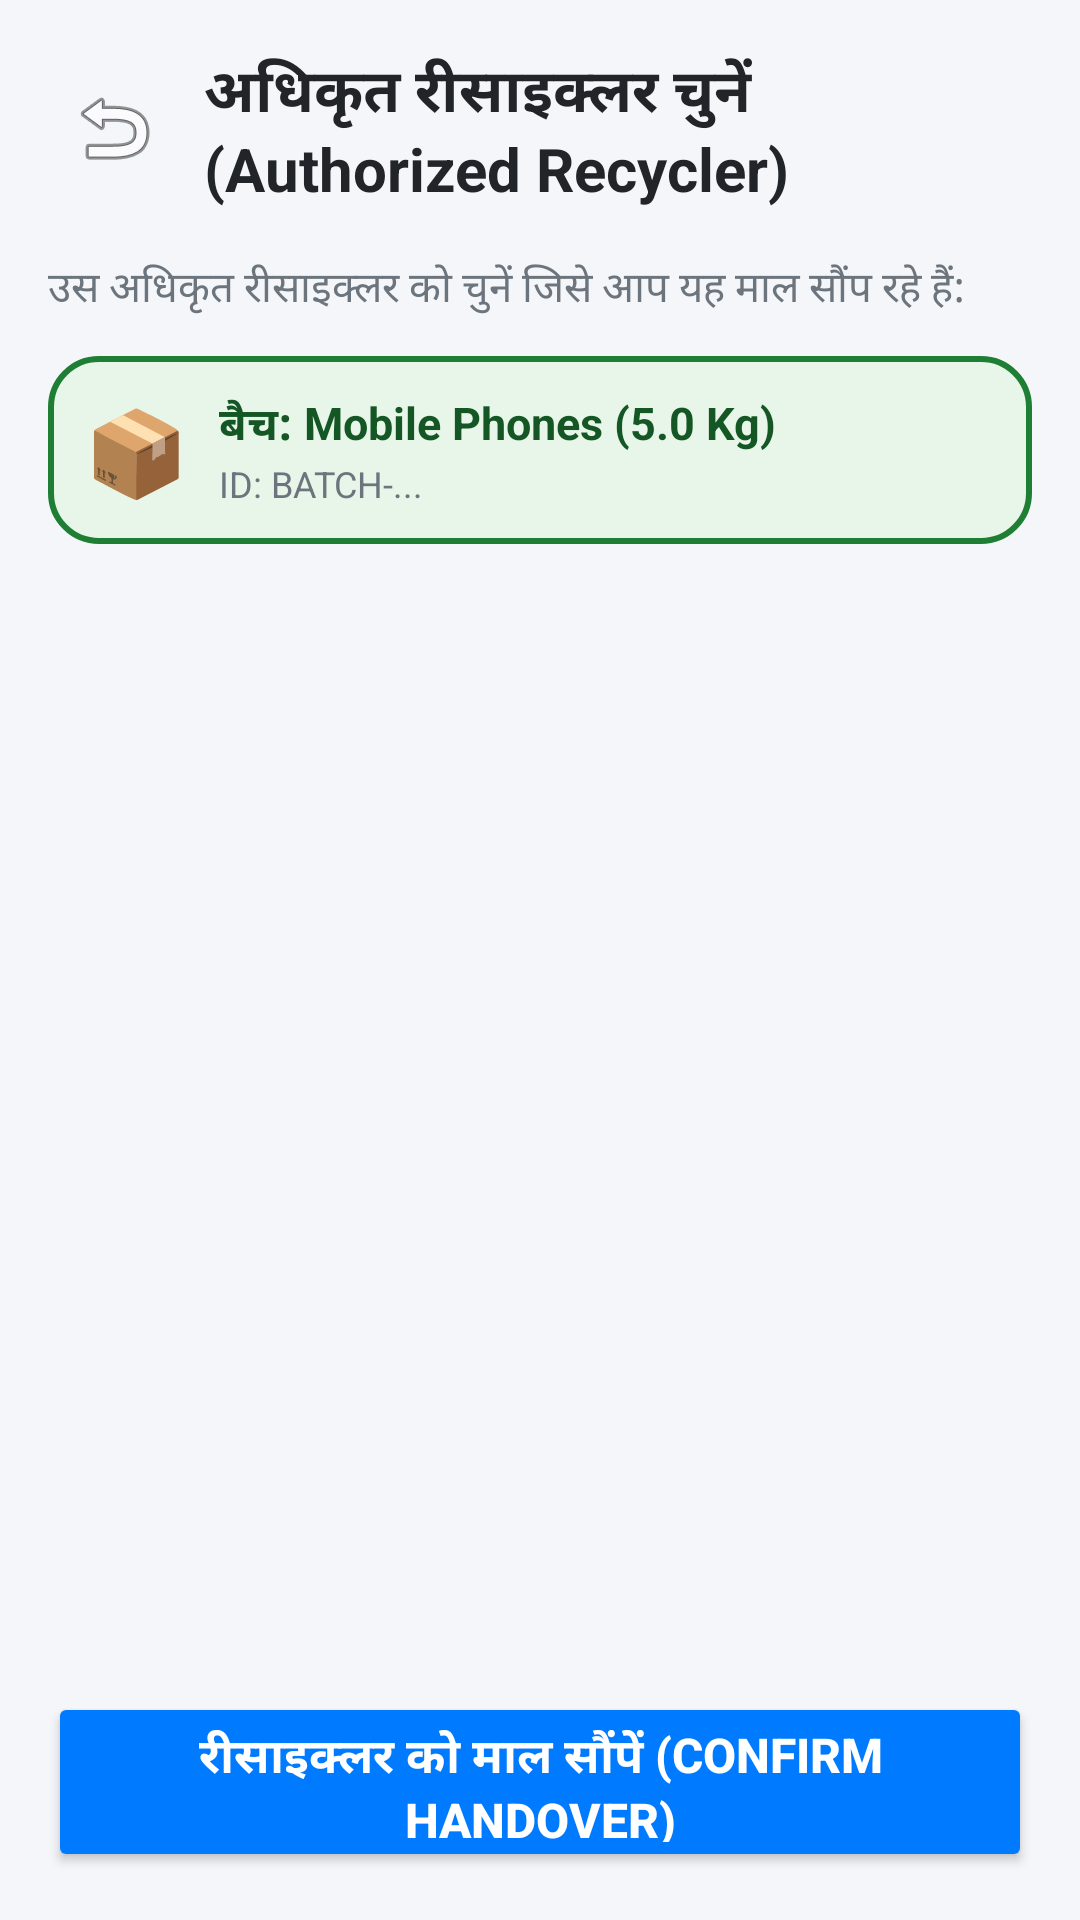

Named icons in this screenshot (1080px×1920px) and their bounding boxes, [left=x1, top=y1, right=x2, bottom=y2]:
revert: [left=81, top=97, right=150, bottom=160]
